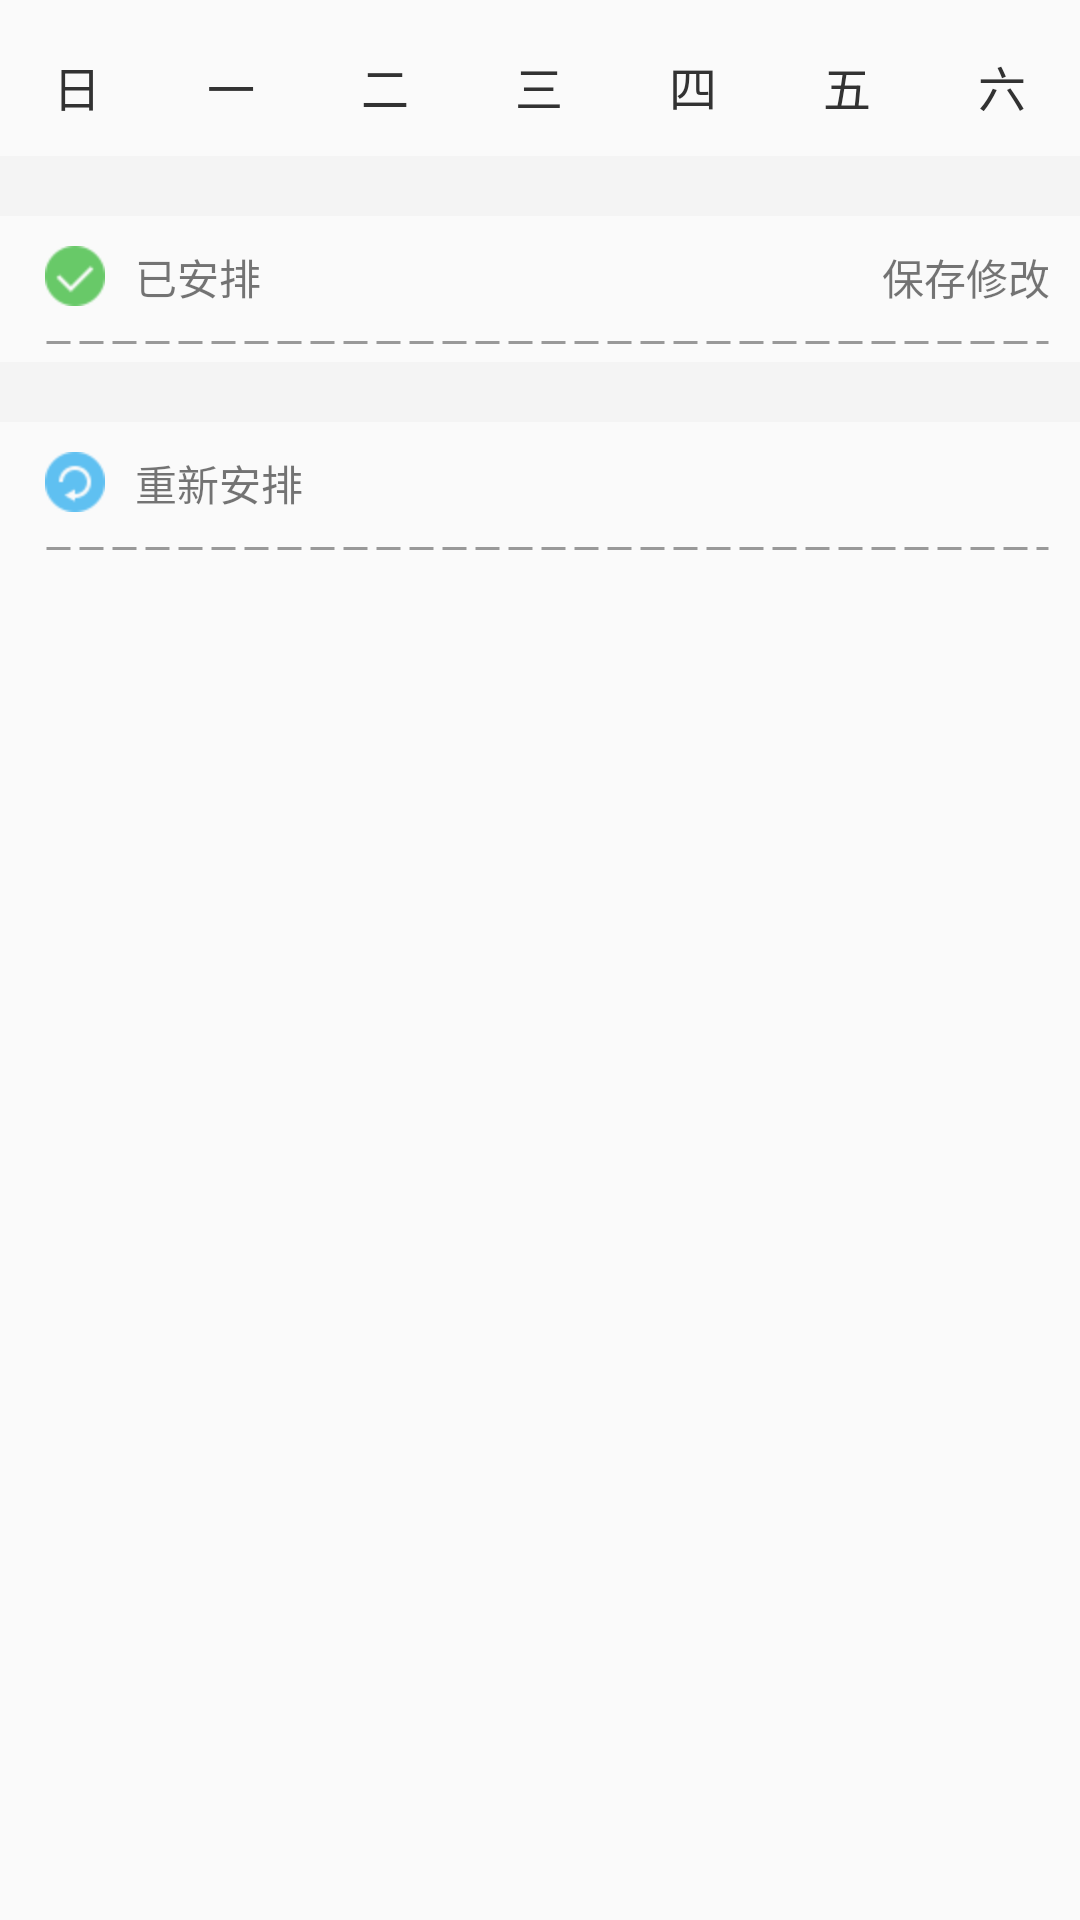

Point at icon controls on the screen. Image size 1080x1920, points as (x,y).
att resch: (75,482)
